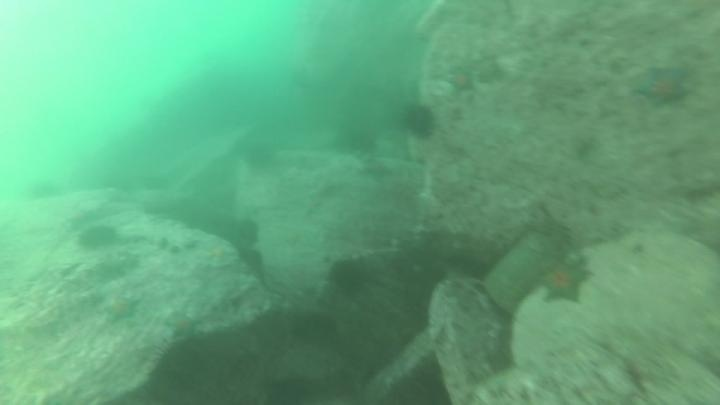echinus: (290, 309, 339, 349), (331, 121, 381, 159), (327, 256, 370, 297), (399, 100, 439, 142), (75, 222, 121, 254), (241, 139, 280, 175), (24, 176, 66, 206), (232, 216, 263, 250), (236, 245, 266, 276)
starfish: (631, 63, 694, 114), (537, 256, 593, 308), (99, 291, 143, 326), (199, 234, 241, 270), (443, 62, 482, 98), (162, 308, 203, 342), (357, 156, 398, 185)
